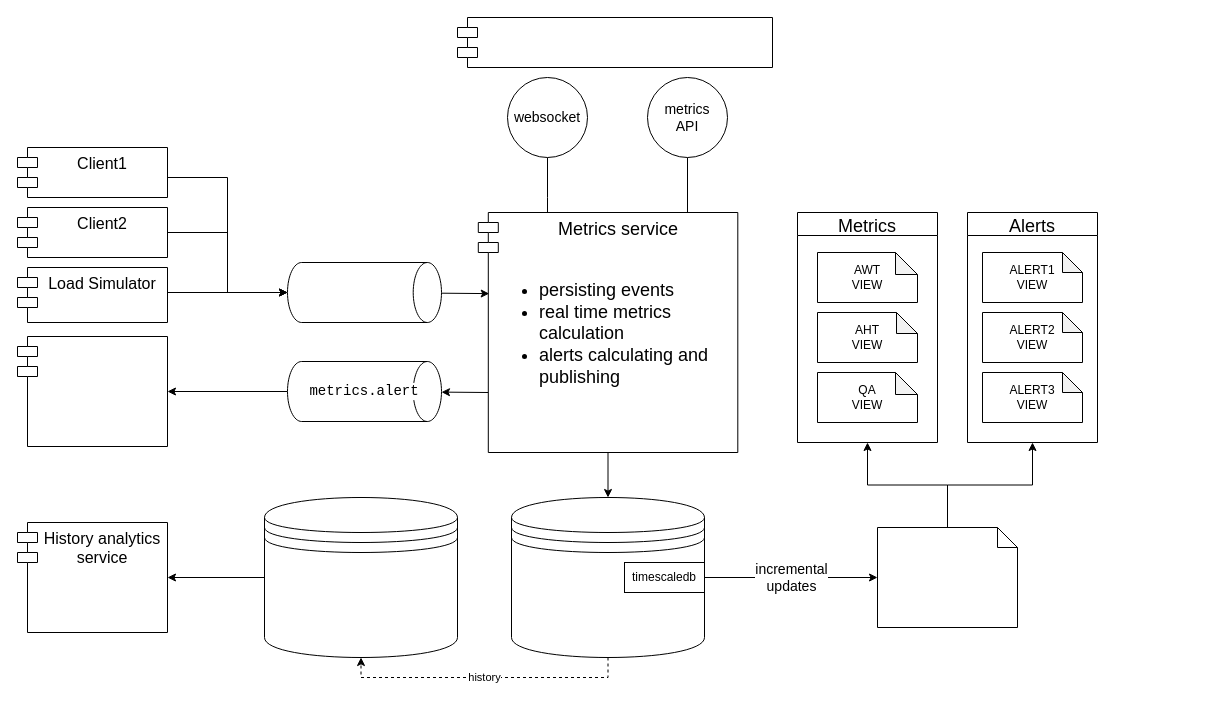
Image size: 1205x703. Some labels were removed from this diagram. The shapes that lost their labels are listed below. From the top down, each one's box as (x1, y1, x2, y2) in pixels, then its label:
(456, 16, 772, 68): UI
(286, 262, 442, 322): metrics.event
(16, 336, 168, 446): Real time analytics service
(264, 496, 458, 658): Analytical DB
(510, 496, 704, 658): Postgres
(876, 526, 1018, 628): Continuous View Today Events
